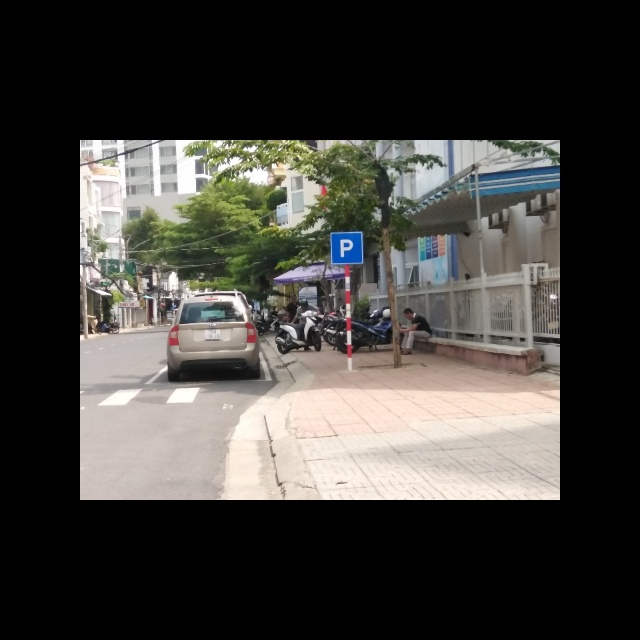Nơi đỗ xe: (330, 231, 364, 263)
